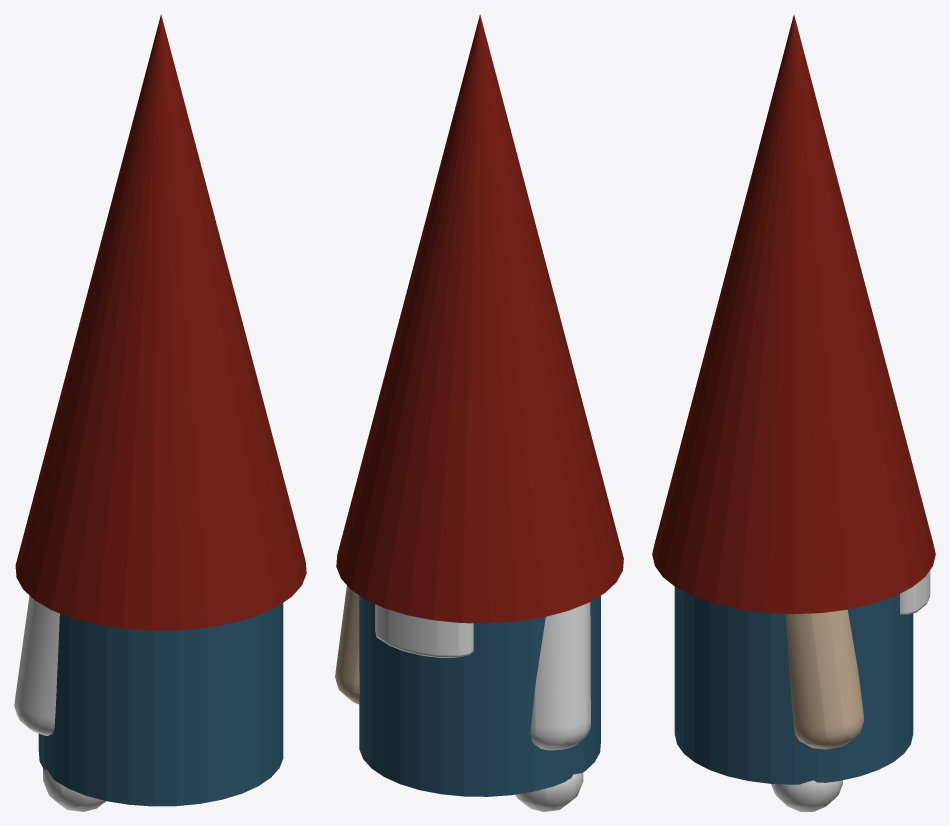
File: Enemy Gnome.glb
3 views of the same model, side by side, from view 1: azimuth 30°, elevation 25°; view 2: azimuth 150°, elevation 25°; view 3: azimuth 270°, elevation 25° (orthographic). The views are drawn at different scales.
Parts seen in each view (by area): view 1: Hat, Body, Right Arm, Right Foot; view 2: Hat, Body, Right Arm, Nose, Left Arm, Right Foot; view 3: Hat, Body, Left Arm, Left Foot, Nose.
Part boxes in pixels (x1,y1,x2,y2): Hat: [15, 14, 306, 630]; Body: [38, 603, 283, 806]; Right Arm: [14, 595, 59, 735]; Right Foot: [43, 768, 106, 811]; Hat: [336, 14, 623, 623]; Body: [359, 595, 600, 796]; Right Arm: [530, 602, 590, 750]; Nose: [375, 604, 473, 657]; Left Arm: [335, 586, 359, 704]; Right Foot: [515, 772, 583, 811]; Hat: [652, 15, 935, 613]; Body: [674, 587, 913, 784]; Left Arm: [785, 609, 864, 749]; Left Foot: [771, 780, 842, 811]; Nose: [900, 570, 930, 614].
Size of the model in its own units: 2.38 by 7.03 by 2.38.
3 materials, 2 textured.
